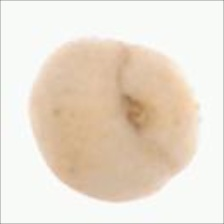L3: (118, 93, 151, 133)
L4: (29, 38, 199, 202)
